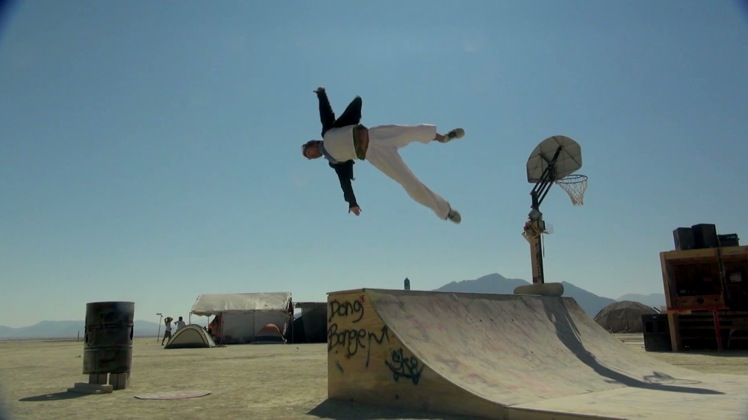Person: (289, 86, 482, 234)
